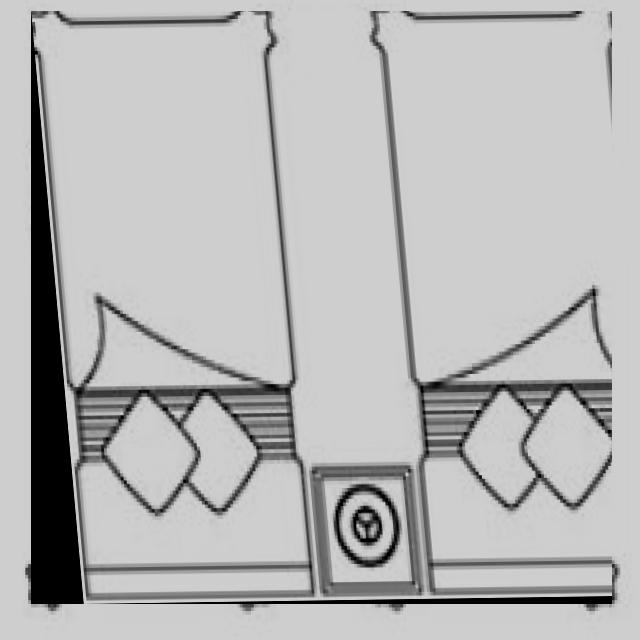bed: (31, 11, 612, 604)
